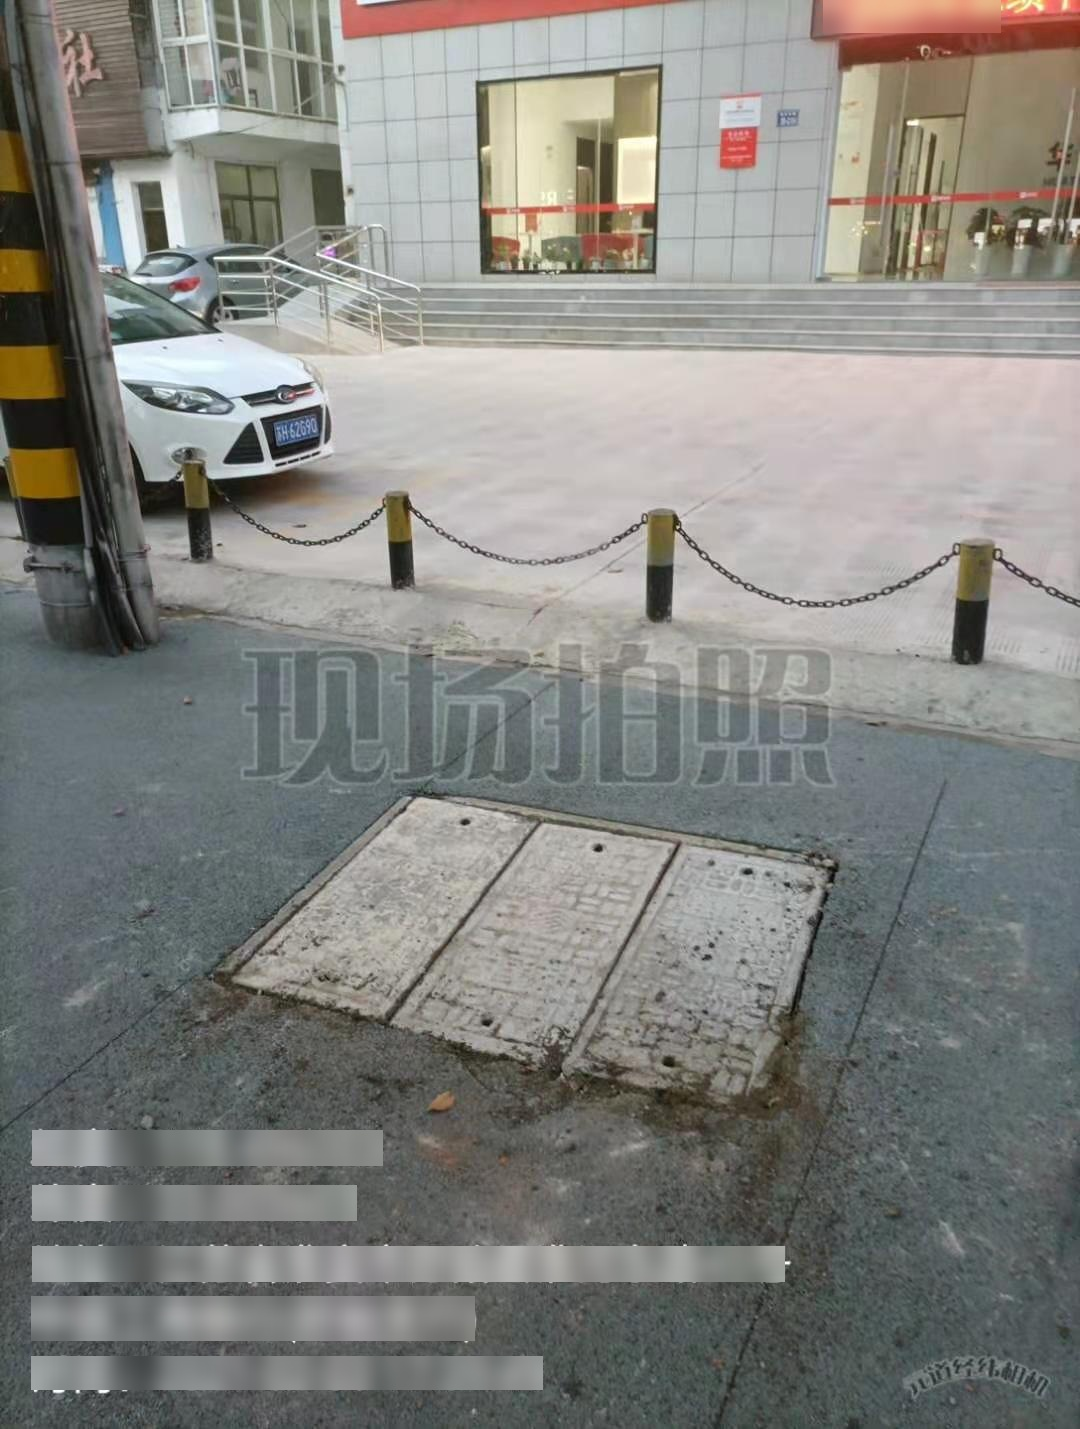good: (206, 790, 833, 1115)
